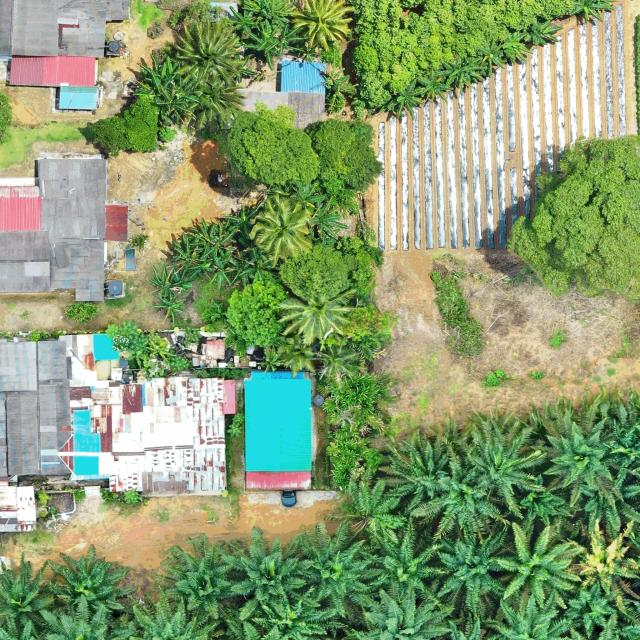Tree: (506, 133, 640, 300), (459, 406, 549, 521), (405, 452, 512, 544), (356, 514, 452, 615), (528, 407, 624, 507), (292, 520, 385, 622), (423, 521, 513, 618), (220, 526, 307, 626), (226, 100, 320, 192), (155, 531, 247, 621), (494, 522, 586, 612), (44, 545, 138, 631), (555, 514, 640, 597), (378, 431, 453, 519), (304, 118, 385, 196), (274, 273, 358, 347), (569, 462, 640, 538), (168, 17, 242, 86), (0, 550, 58, 637), (224, 273, 286, 352), (338, 476, 408, 545), (86, 93, 160, 157), (278, 242, 358, 300), (134, 54, 199, 124), (250, 196, 314, 261), (505, 468, 574, 528), (558, 576, 623, 639), (286, 0, 353, 53), (188, 75, 245, 130), (188, 217, 239, 262), (316, 57, 357, 111), (171, 232, 215, 281), (242, 20, 282, 70), (379, 78, 424, 122), (147, 262, 194, 298), (433, 56, 475, 95), (266, 24, 311, 58), (243, 0, 296, 27), (207, 248, 240, 289), (417, 67, 454, 103), (569, 0, 620, 25), (501, 27, 534, 63), (311, 208, 348, 240), (522, 20, 566, 46), (151, 294, 186, 326), (239, 246, 274, 278), (225, 205, 257, 239), (229, 0, 259, 36), (478, 38, 505, 78), (291, 40, 323, 63)
